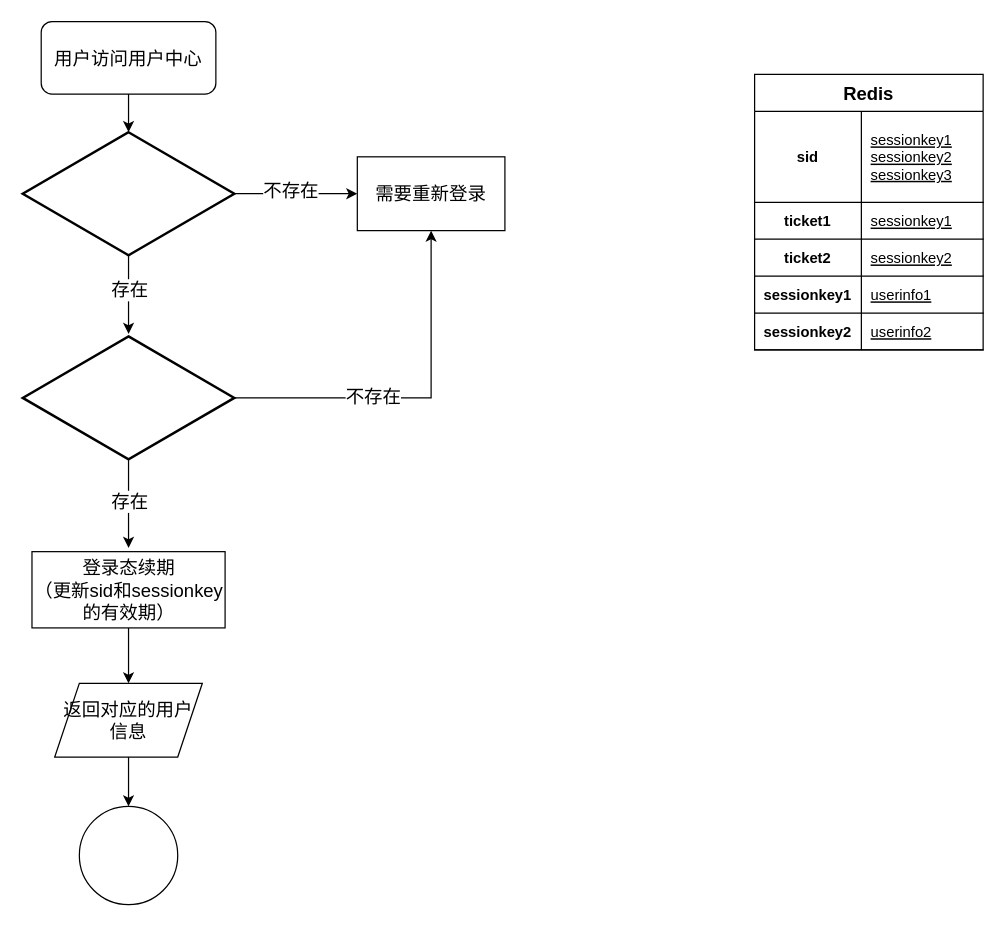
Some shapes in this 1005 by 926 pixel diagram are drawn without their labels. Each missing label, with the centre of its shape:
"sessionkey是否存在" goes at [128,397].
"sid是否存在" goes at [128,193].
"结束" goes at [128,855].
